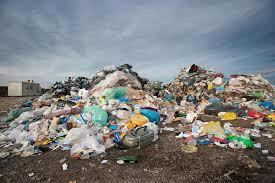Electronics: (123, 126, 156, 149)
Plastic bag: (150, 56, 270, 101), (122, 94, 275, 124), (22, 96, 117, 142), (50, 57, 148, 95)
